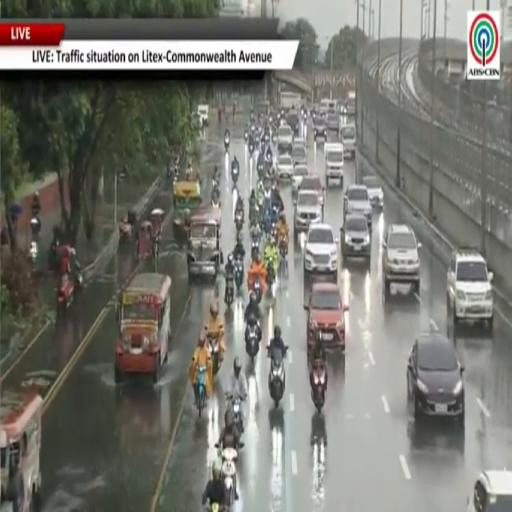car: (407, 332, 464, 424), (447, 249, 493, 329), (305, 282, 348, 353), (382, 224, 421, 297), (304, 223, 338, 281), (468, 470, 511, 511), (340, 214, 371, 264), (294, 190, 322, 237), (344, 185, 372, 230), (324, 142, 344, 187), (298, 174, 324, 205), (362, 175, 383, 211), (340, 124, 356, 159), (292, 165, 308, 196), (277, 123, 293, 152), (276, 154, 293, 180), (286, 109, 300, 136), (313, 114, 326, 141), (291, 146, 306, 165), (326, 112, 339, 133), (198, 104, 209, 126), (292, 138, 306, 149)
jeepney: (115, 274, 171, 382), (0, 390, 42, 511), (188, 205, 223, 277), (173, 182, 201, 242)
motorcycle: (268, 348, 287, 407), (57, 269, 82, 312), (221, 447, 237, 504), (227, 394, 244, 435), (312, 365, 326, 413), (195, 365, 207, 418), (245, 322, 260, 362), (207, 335, 220, 375), (224, 275, 234, 308), (234, 260, 244, 291), (48, 243, 59, 271), (267, 263, 275, 292), (30, 216, 40, 237), (235, 210, 244, 233), (249, 204, 258, 226), (30, 240, 38, 264), (152, 237, 159, 264), (254, 276, 261, 303), (252, 236, 260, 259), (211, 188, 220, 207), (231, 164, 239, 183), (257, 162, 264, 179), (265, 152, 272, 167), (224, 135, 229, 152), (248, 141, 254, 155), (264, 132, 270, 145), (251, 122, 256, 136), (212, 199, 220, 207), (271, 133, 276, 145), (268, 116, 273, 125), (244, 131, 248, 142)
truck: (280, 91, 302, 110), (346, 91, 356, 117)
